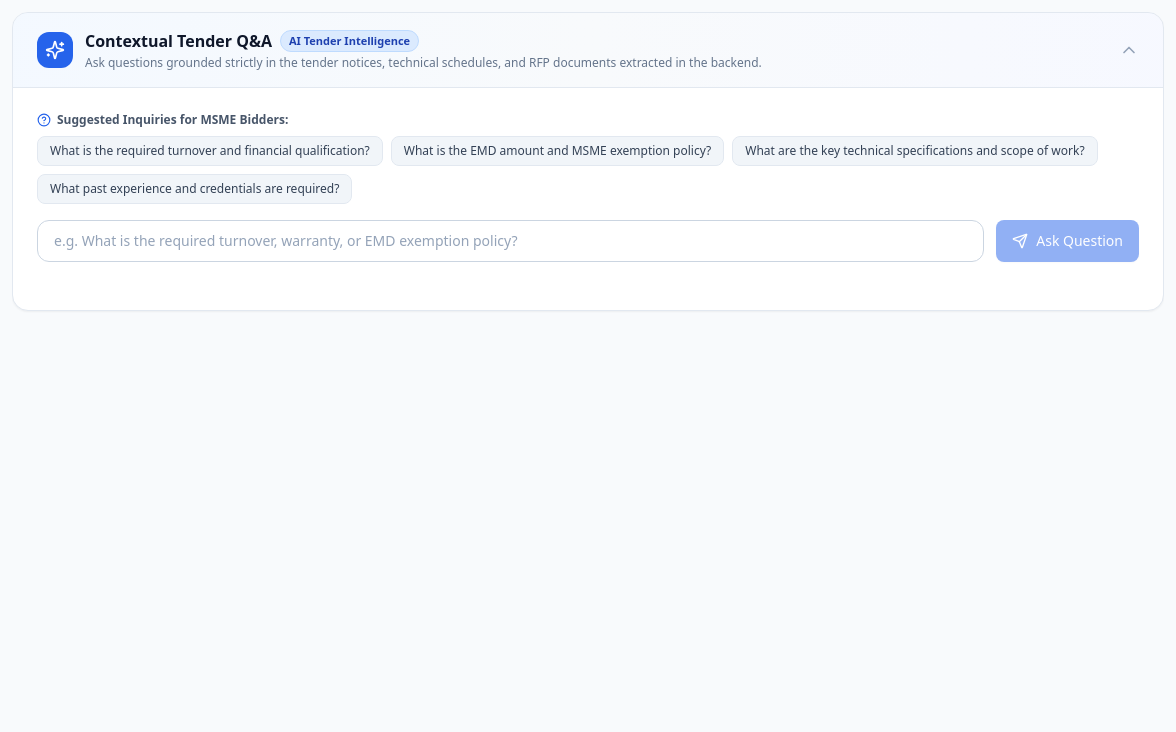
Scenario: TenderQAPanel Component › renders question input and submits question to retrieve grounded answer with citations
Expected: the heading "Contextual Tender Q&A" is shown, top-left (85, 29), bottom-right (272, 53)
Replace the text in the field with placeholder "What is the required turnover" with "What is the required warranty period?" at (511, 241), box top-left (37, 220), bottom-right (984, 262)
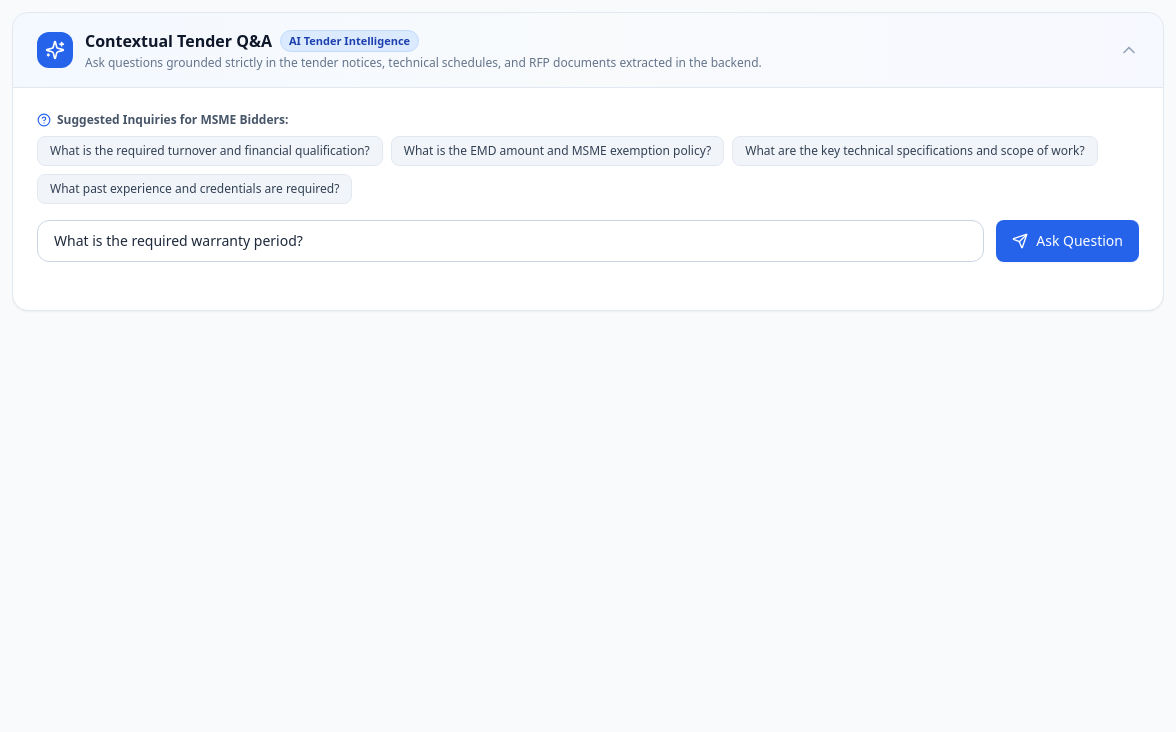
Click the button "Ask Question" at (1068, 241), box top-left (996, 220), bottom-right (1139, 262)
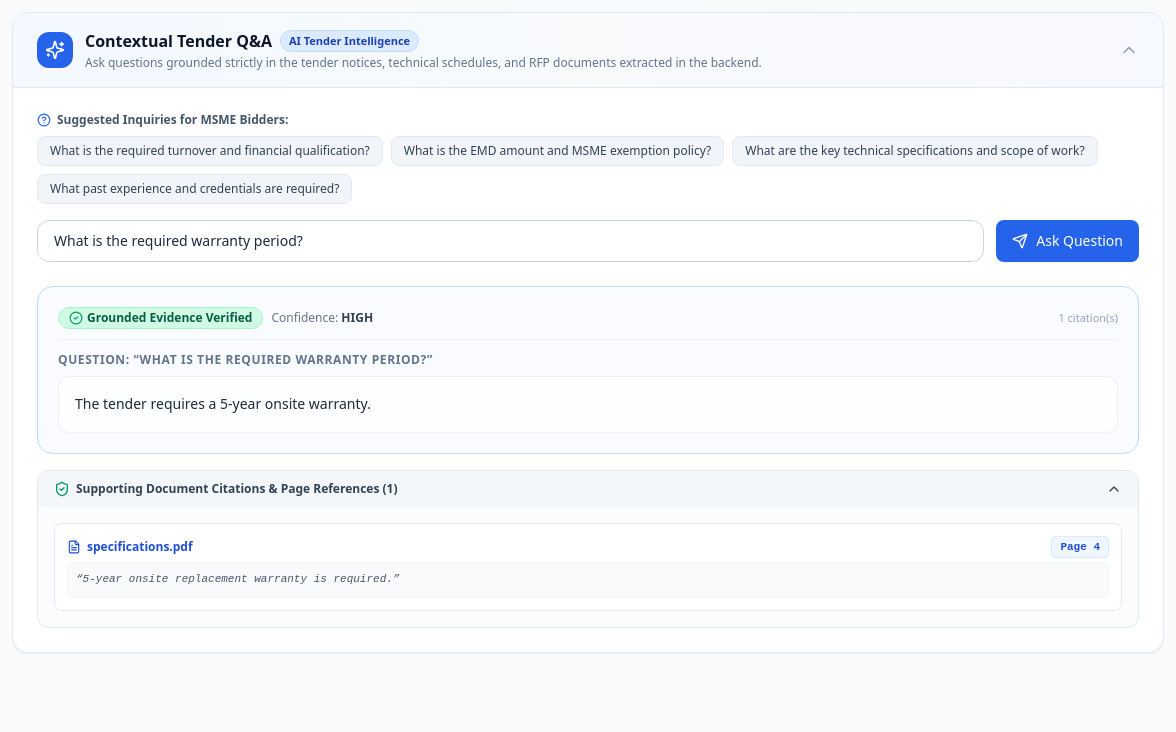
Expected: the text "Grounded Evidence Verified" is shown, top-left (58, 307), bottom-right (263, 329)
Expected: the text "The tender requires a 5-year onsite warranty." is shown, top-left (58, 376), bottom-right (1118, 433)
Expected: the text "specifications.pdf" is shown, top-left (67, 539), bottom-right (193, 555)
